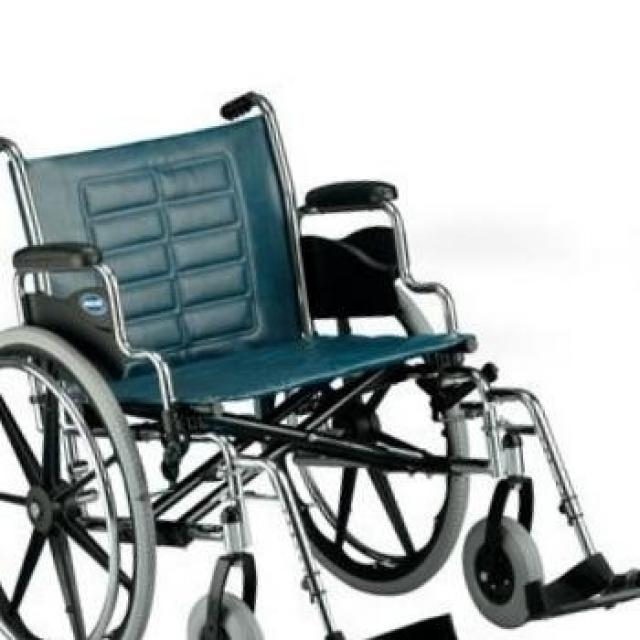wheelchair: (2, 86, 640, 640)
